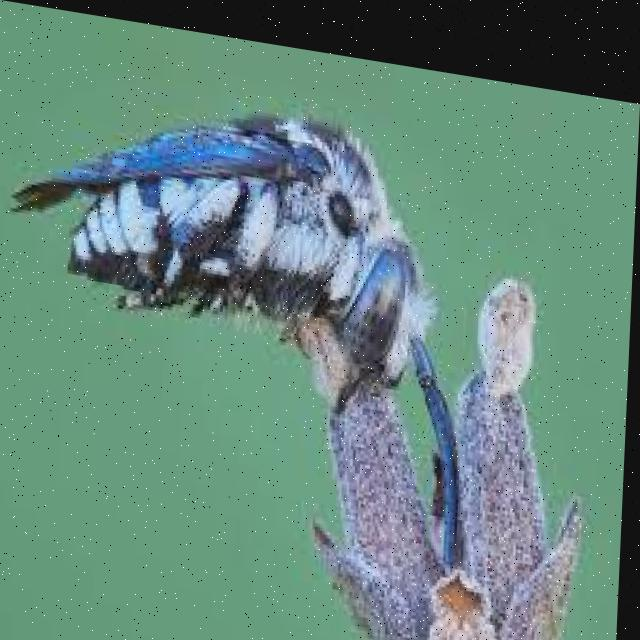Thyreus: (9, 49, 508, 557)
